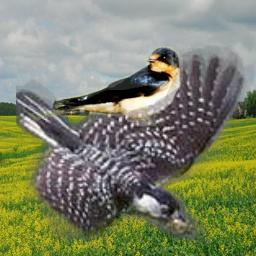Swallow: (28, 46, 183, 126)
Woodpecker: (16, 45, 254, 245)
